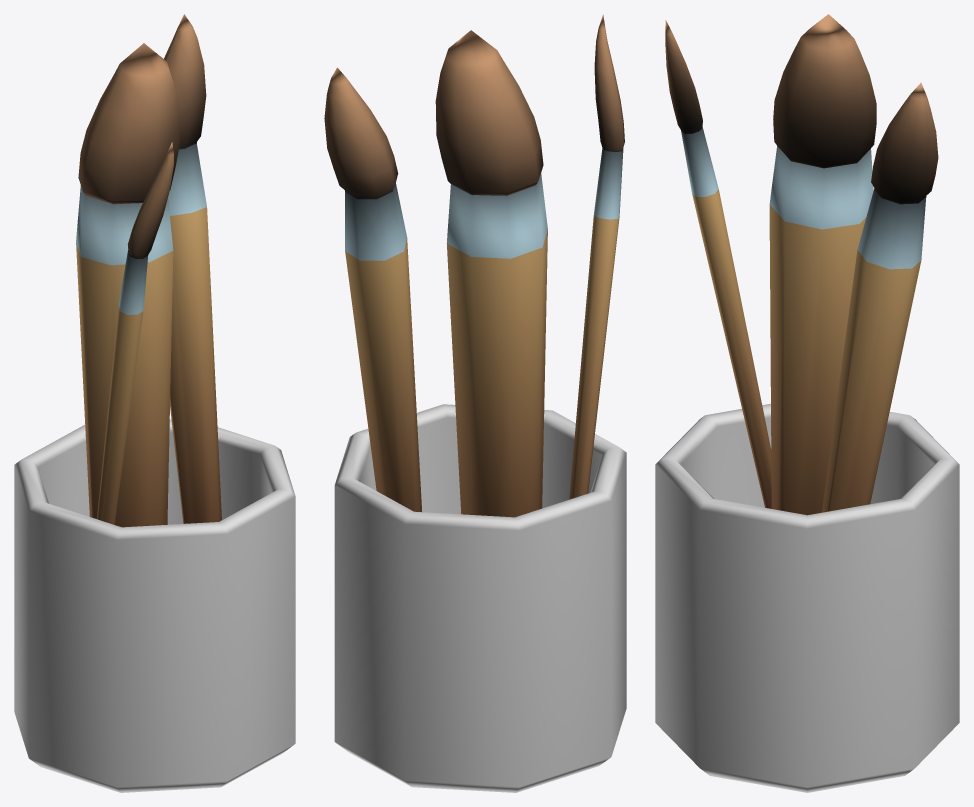
Rendered from paint-brush-cup.glb.
The picture shows the model from 3 angles, left to right: view 1: azimuth 30°, elevation 25°; view 2: azimuth 150°, elevation 25°; view 3: azimuth 270°, elevation 25°; orthographic projection. The views are drawn at different scales.
Parts seen in each view (by area): view 1: Object_45, Object_46; view 2: Object_45, Object_46; view 3: Object_45, Object_46.
Part boxes in pixels (x1,y1,x2,y2): Object_45: (14, 419, 295, 792); Object_46: (76, 14, 221, 527); Object_45: (334, 404, 626, 792); Object_46: (324, 14, 624, 517); Object_45: (655, 403, 959, 792); Object_46: (665, 14, 938, 515).
Size of the model in its own units: 0.1749 by 0.4564 by 0.1749.
2 materials, 1 textured.
